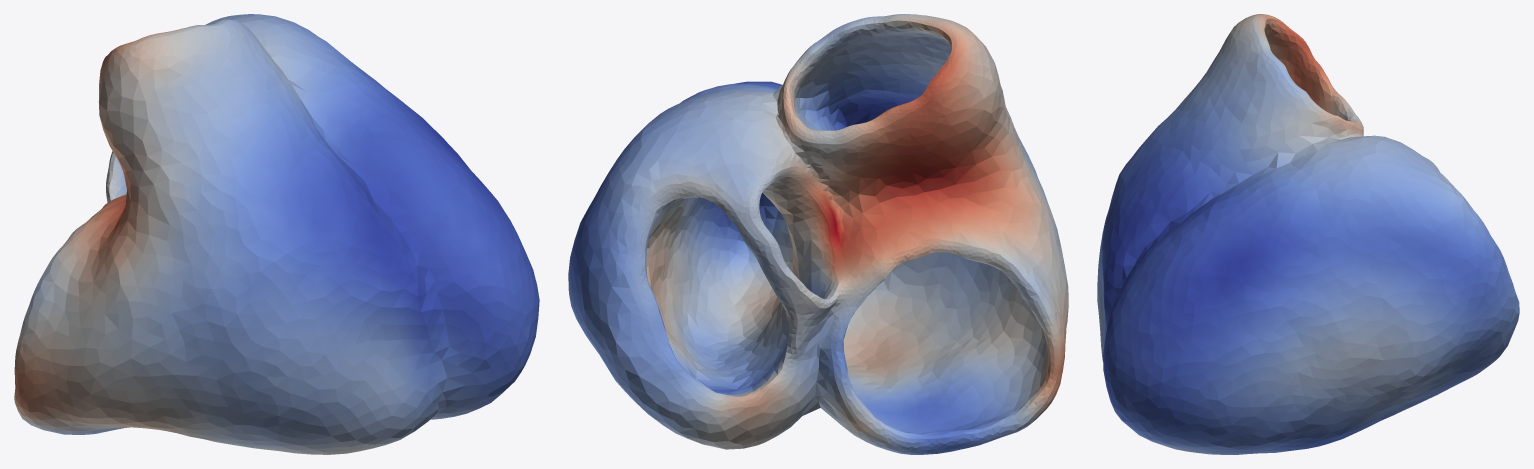
File: avr18_correct.glb
The picture shows the model from 3 angles, left to right: view 1: azimuth 30°, elevation 25°; view 2: azimuth 150°, elevation 25°; view 3: azimuth 270°, elevation 25°; orthographic projection. The views are drawn at different scales.
Visible parts, largest first — view 1: avr18_ar_240; view 2: avr18_ar_240; view 3: avr18_ar_240.
Part boxes in pixels (x1=…): avr18_ar_240: x1=14, y1=14, x2=539, y2=454; avr18_ar_240: x1=568, y1=14, x2=1068, y2=454; avr18_ar_240: x1=1097, y1=14, x2=1519, y2=454.
Size of the model in its own units: 10.04 by 8.8 by 9.75.
